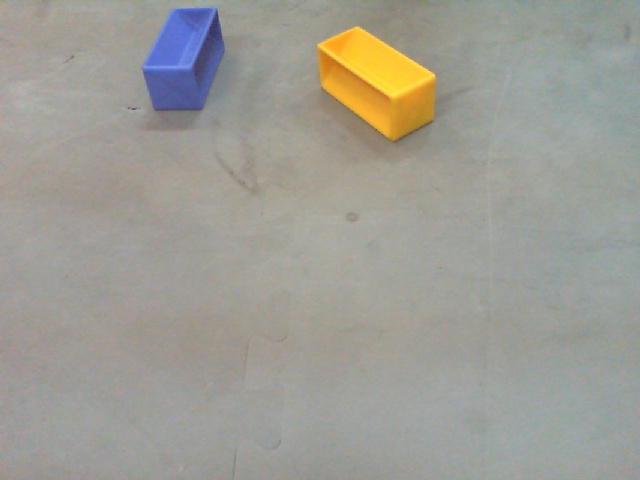BlueSample: (141, 7, 228, 111)
YellowSample: (317, 26, 437, 145)
